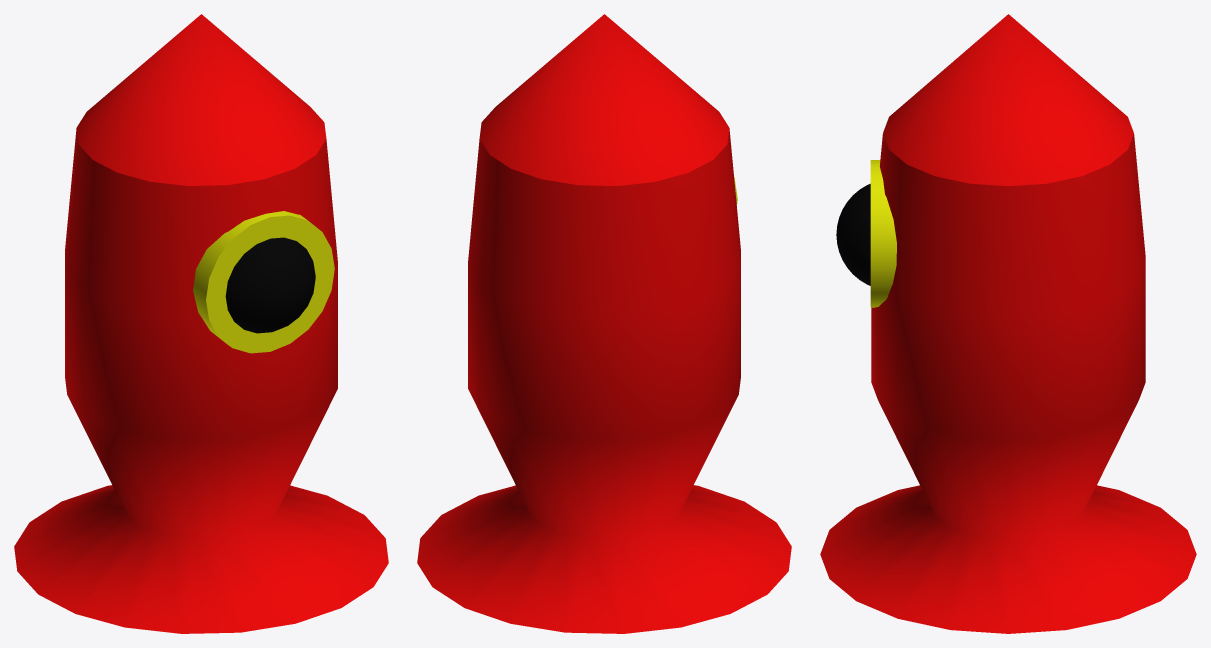
File: enemy_stopshoot.fbx
3 views of the same model, side by side, from view 1: azimuth 30°, elevation 25°; view 2: azimuth 150°, elevation 25°; view 3: azimuth 270°, elevation 25° (orthographic).
Parts seen in each view (by area): view 1: pCylinder3, pCylinder2, pSphere1; view 2: pCylinder3; view 3: pCylinder3, pCylinder2, pSphere1.
Boxes of the visible parts, <box> form: pCylinder3: <box>14,14,388,633</box>; pCylinder2: <box>193,211,334,353</box>; pSphere1: <box>225,237,315,333</box>; pCylinder3: <box>417,14,791,633</box>; pCylinder3: <box>820,14,1196,633</box>; pCylinder2: <box>870,160,896,307</box>; pSphere1: <box>836,183,870,285</box>.
Bounding box in the file's own units: 2.74 × 4.34 × 2.74.
